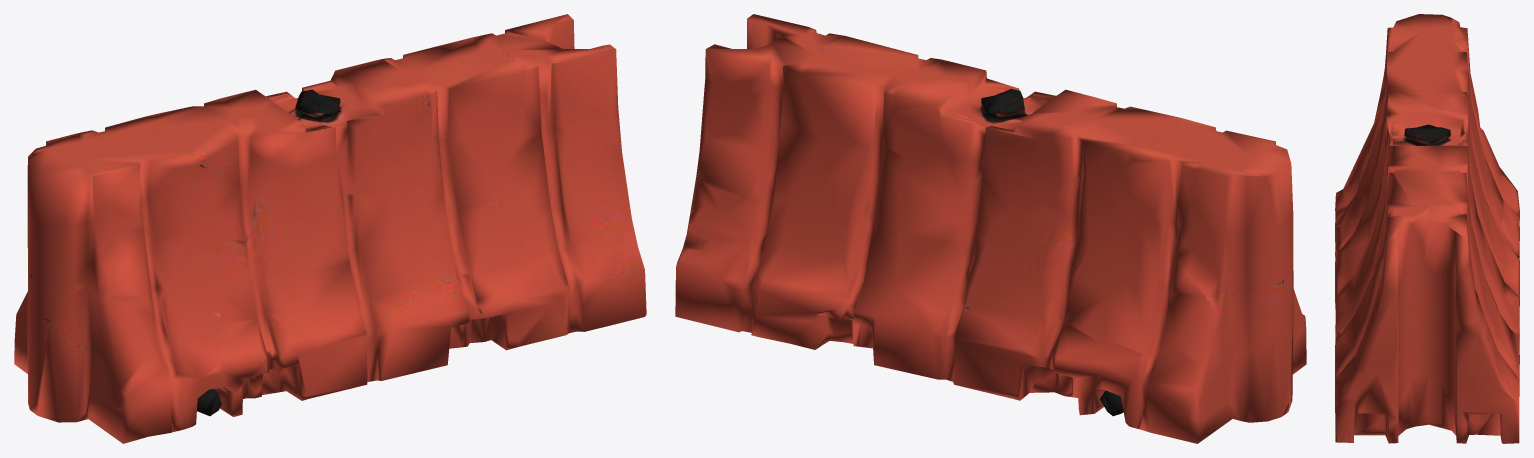
File: barrier.glb
The picture shows the model from 3 angles, left to right: view 1: azimuth 30°, elevation 25°; view 2: azimuth 150°, elevation 25°; view 3: azimuth 270°, elevation 25°; orthographic projection. The views are drawn at different scales.
Bounding box in the file's own units: 1.9 × 0.801 × 0.6536.
Materials: 1 (1 with a texture image).
